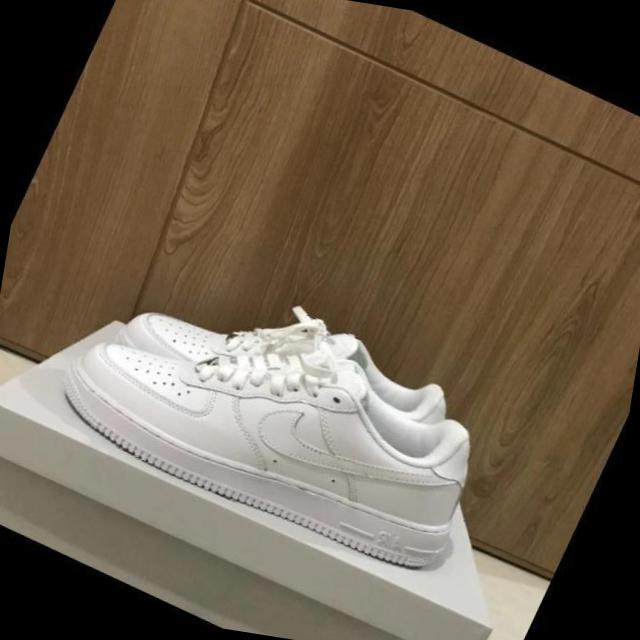nike_original_airforce: (22, 245, 521, 602), (94, 234, 473, 486)
